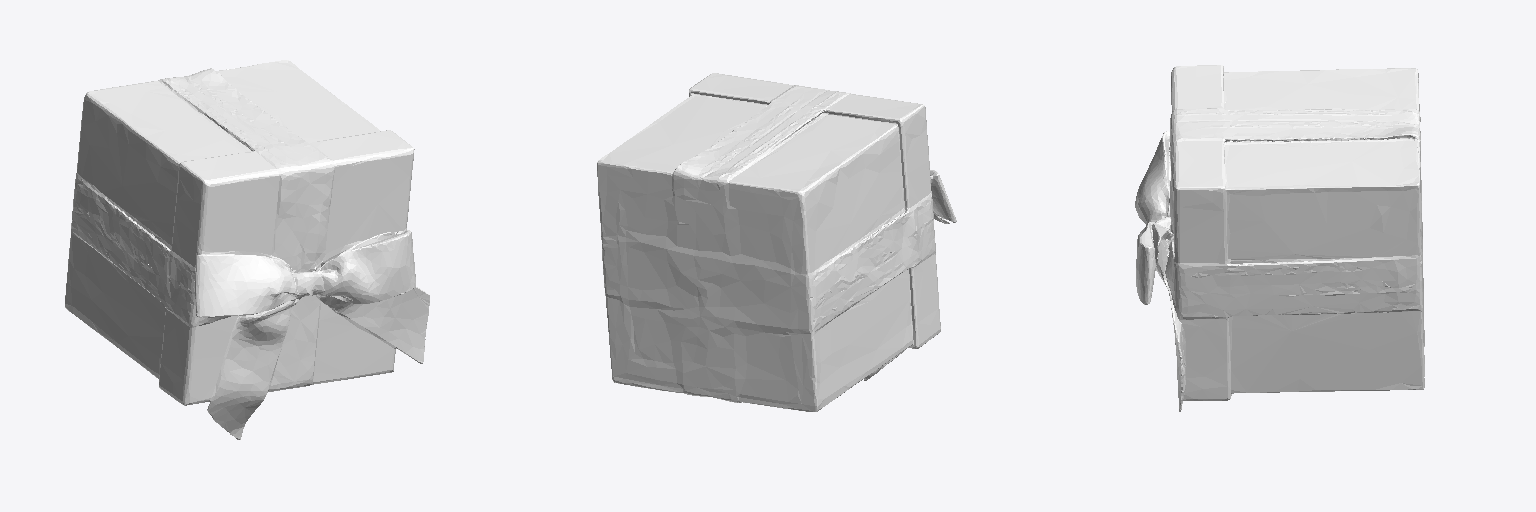
Rendered from KS_Chocolate_Cube_Box_Assortment_By_Neuhaus_2010_Ounces_visual.obj.
3 views of the same model, side by side, from view 1: azimuth 30°, elevation 25°; view 2: azimuth 150°, elevation 25°; view 3: azimuth 270°, elevation 25° (orthographic).
Size of the model in its own units: 0.1182 by 0.1281 by 0.1196.